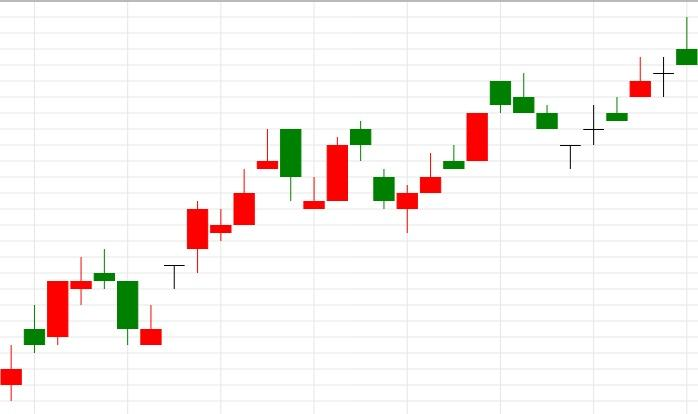bearish_engulfing_fall: (139, 128, 302, 344)
shooting_star_fall: (560, 17, 698, 168)
